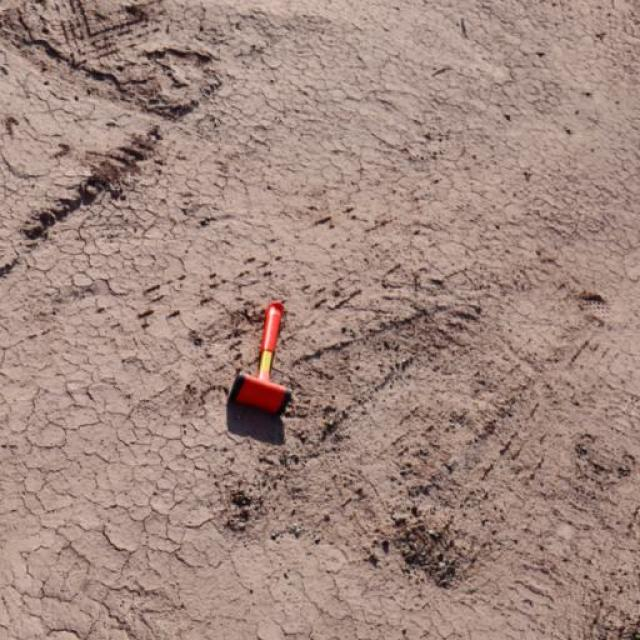mallet: (226, 299, 292, 416)
